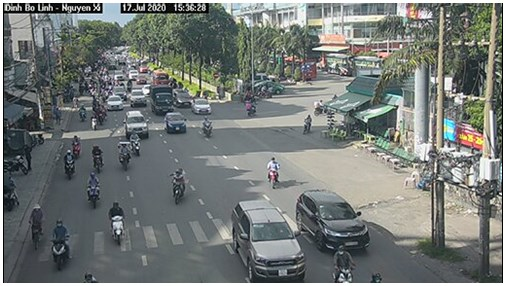xe_dap: (28, 200, 46, 248)
xe_hoi: (228, 200, 305, 282), (295, 188, 369, 252), (120, 107, 150, 138), (163, 111, 187, 135)
xe_may: (50, 216, 72, 271), (106, 198, 129, 244), (331, 242, 356, 283), (169, 166, 187, 207), (264, 154, 283, 190), (85, 172, 101, 211), (116, 138, 133, 171), (297, 111, 316, 137), (91, 142, 107, 172), (62, 149, 76, 180), (130, 127, 143, 158), (70, 132, 84, 158), (201, 114, 214, 140), (243, 98, 258, 118), (76, 103, 87, 125), (88, 110, 99, 132)
